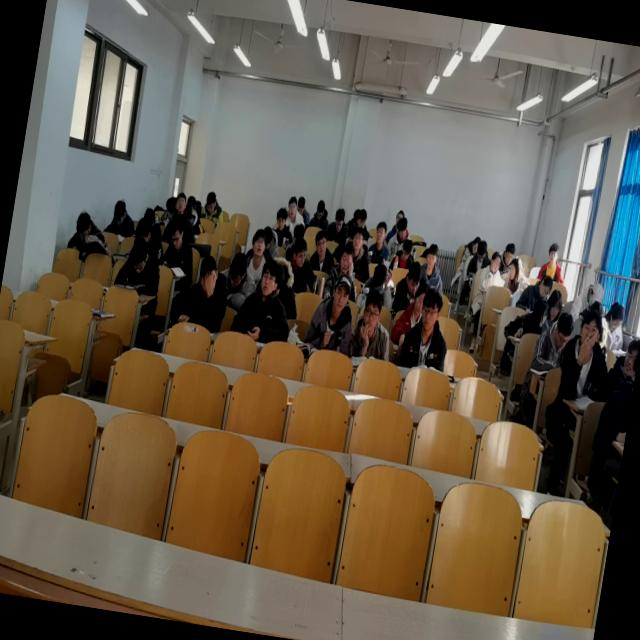bow: (114, 232, 166, 294), (218, 250, 260, 314), (354, 258, 400, 315), (502, 290, 552, 342), (65, 206, 103, 253), (514, 271, 554, 315)
down: (128, 236, 152, 276), (552, 310, 576, 350), (226, 251, 249, 290), (73, 208, 95, 244), (404, 258, 424, 296), (546, 286, 566, 322), (410, 282, 430, 318), (249, 228, 269, 260), (606, 304, 626, 336), (110, 199, 130, 229), (370, 262, 390, 292), (424, 242, 441, 272), (203, 190, 220, 217), (168, 222, 184, 250), (537, 274, 554, 300), (474, 239, 490, 265), (332, 208, 347, 235), (400, 236, 414, 264), (394, 217, 410, 240), (502, 242, 516, 268), (314, 198, 328, 222)
lookup: (577, 308, 605, 352), (418, 286, 444, 332), (257, 256, 283, 300), (196, 253, 222, 295), (329, 272, 354, 314), (362, 284, 384, 331), (338, 241, 358, 276), (312, 228, 330, 255), (173, 190, 190, 217), (373, 219, 389, 246), (350, 228, 367, 253), (546, 242, 562, 268), (274, 207, 288, 230), (286, 195, 300, 218), (355, 208, 369, 231)
sit: (554, 308, 618, 408), (232, 254, 300, 344), (302, 268, 361, 358), (398, 282, 457, 372), (172, 248, 235, 332), (348, 284, 400, 364), (528, 306, 576, 376), (323, 238, 365, 303), (280, 236, 323, 294), (160, 220, 200, 280), (240, 226, 280, 286), (162, 187, 202, 243), (391, 258, 426, 318), (416, 241, 450, 293), (346, 228, 376, 284), (307, 227, 340, 275), (102, 197, 138, 239), (537, 242, 570, 286), (500, 254, 536, 294), (476, 248, 504, 296), (364, 222, 394, 266), (384, 215, 410, 262), (270, 206, 298, 249), (324, 201, 352, 242), (466, 238, 495, 277), (282, 192, 306, 238), (388, 236, 418, 272), (200, 188, 227, 224), (308, 198, 334, 230)
